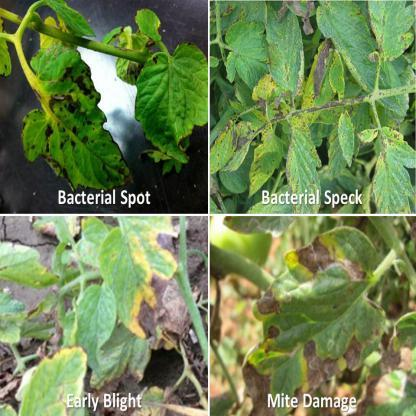Tomato Early blight leaf: (20, 222, 184, 414)
Tomato leaf late blight: (20, 48, 130, 203), (123, 47, 207, 180), (318, 3, 402, 120), (354, 121, 416, 209), (260, 3, 309, 106), (278, 102, 324, 211), (332, 98, 364, 166), (326, 44, 348, 98)
Tomato two spotted spider mites leaf: (244, 233, 399, 402)
